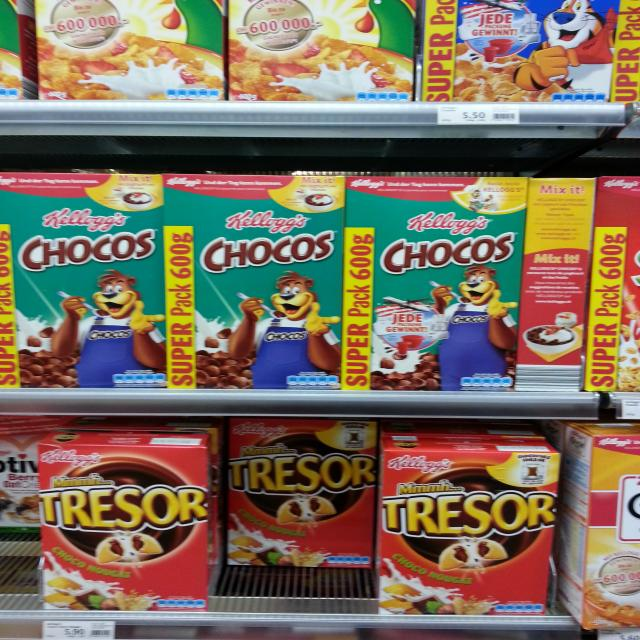Cereals: (347, 177, 526, 392), (167, 174, 344, 391), (3, 174, 166, 389), (37, 426, 221, 612), (378, 433, 561, 616), (226, 416, 377, 568), (421, 0, 617, 105), (224, 0, 414, 101), (38, 0, 225, 98), (562, 428, 640, 628)
